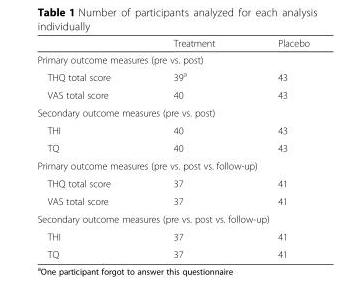table: (36, 37, 308, 259)
table column: (36, 37, 141, 259), (141, 37, 245, 259), (245, 37, 308, 259)
table column header: (36, 37, 308, 50)
table projected row header: (36, 103, 308, 121), (36, 156, 308, 174), (36, 209, 308, 227), (36, 50, 308, 67)
table row: (36, 67, 308, 85), (36, 85, 308, 103), (36, 103, 308, 121), (36, 138, 308, 156), (36, 156, 308, 174), (36, 174, 308, 192), (36, 209, 308, 227), (36, 227, 308, 245), (36, 50, 308, 67), (36, 121, 308, 138), (36, 192, 308, 209), (36, 245, 308, 259), (36, 37, 308, 50)
